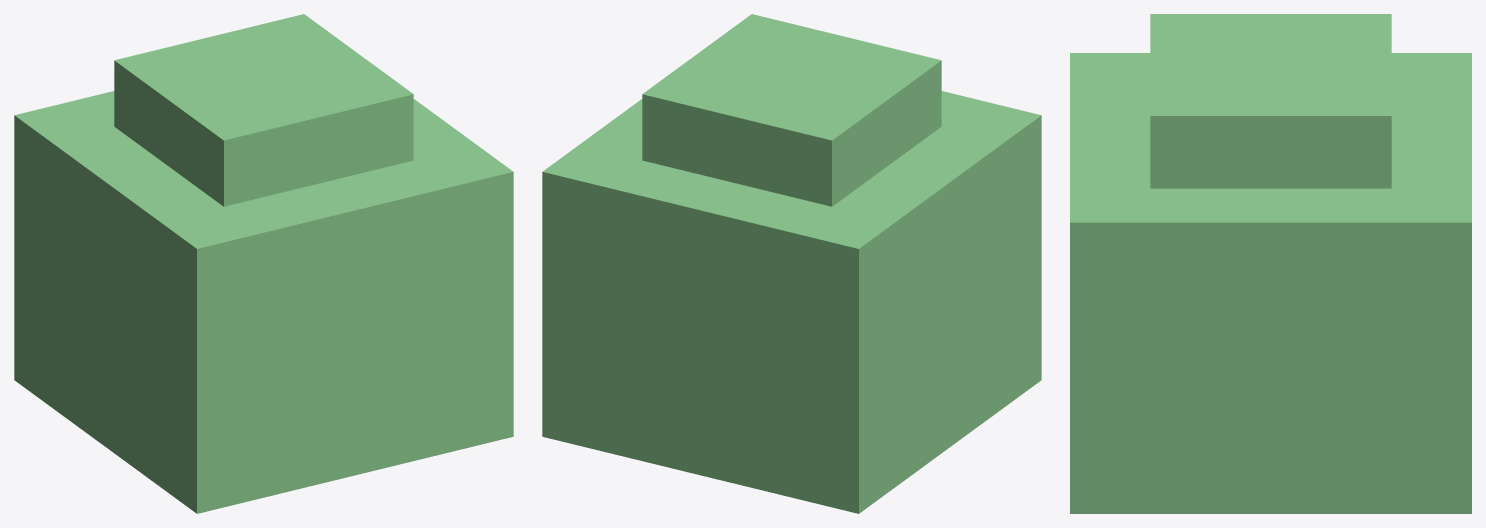
Rendered from Item_DS_Food_HerbTea_V0.glb.
The picture shows the model from 3 angles, left to right: view 1: azimuth 30°, elevation 25°; view 2: azimuth 150°, elevation 25°; view 3: azimuth 270°, elevation 25°; orthographic projection. The views are drawn at different scales.
Visible parts, largest first — view 1: Cube, Cube.001; view 2: Cube, Cube.001; view 3: Cube, Cube.001.
Part boxes in pixels (x1,y1,x2,y2): Cube: [14, 91, 513, 513]; Cube.001: [114, 14, 413, 206]; Cube: [542, 91, 1041, 513]; Cube.001: [642, 14, 941, 206]; Cube: [1070, 53, 1471, 513]; Cube.001: [1150, 14, 1391, 188].
Bounding box in the file's own units: 0.18 × 0.18 × 0.18.
